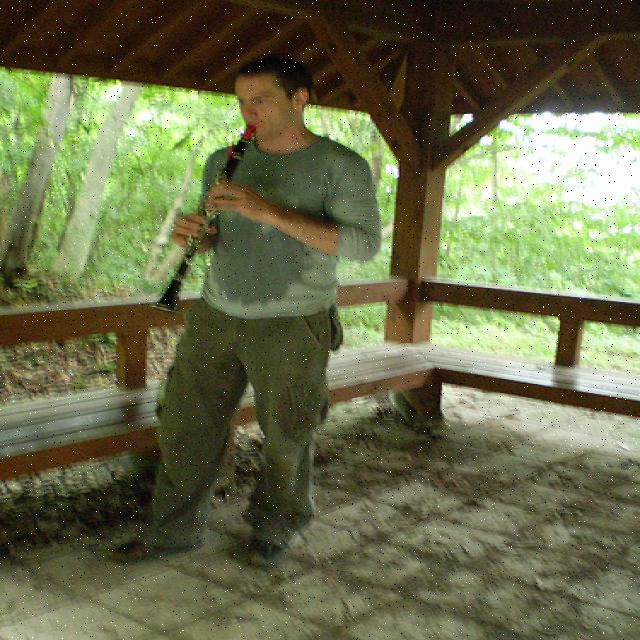clarinet: (148, 123, 263, 316)
